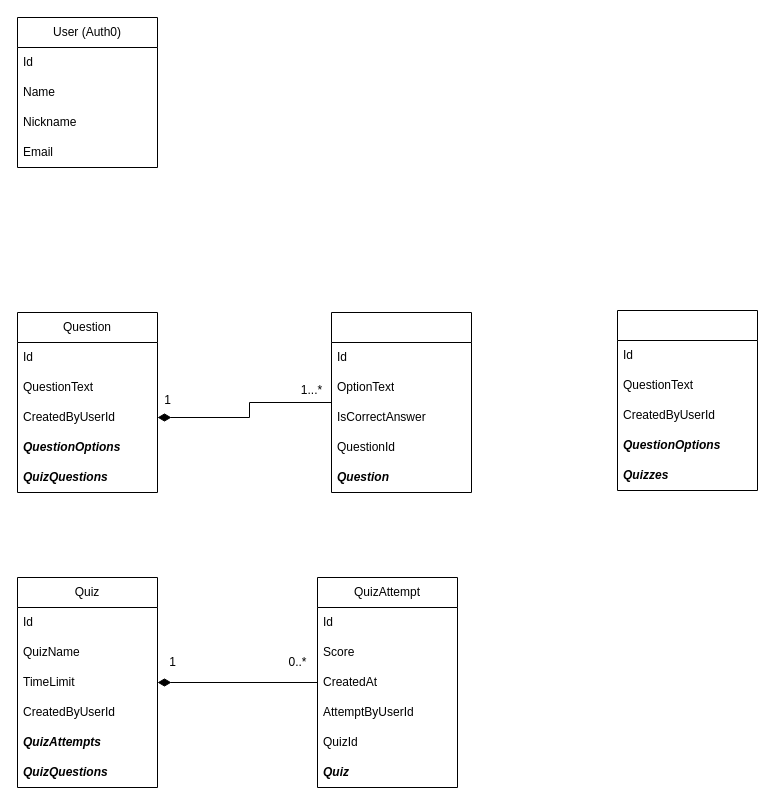
Some shapes in this 775 by 805 pixel diagram are drawn without their labels. The shapes that lost their labels are listed below. From the top down, each one's box as (x1, y1, x2, y2) in pixels, then its label:
(330, 312, 472, 492): QuestionOption
(616, 310, 758, 490): QuizQuestions (Join)
